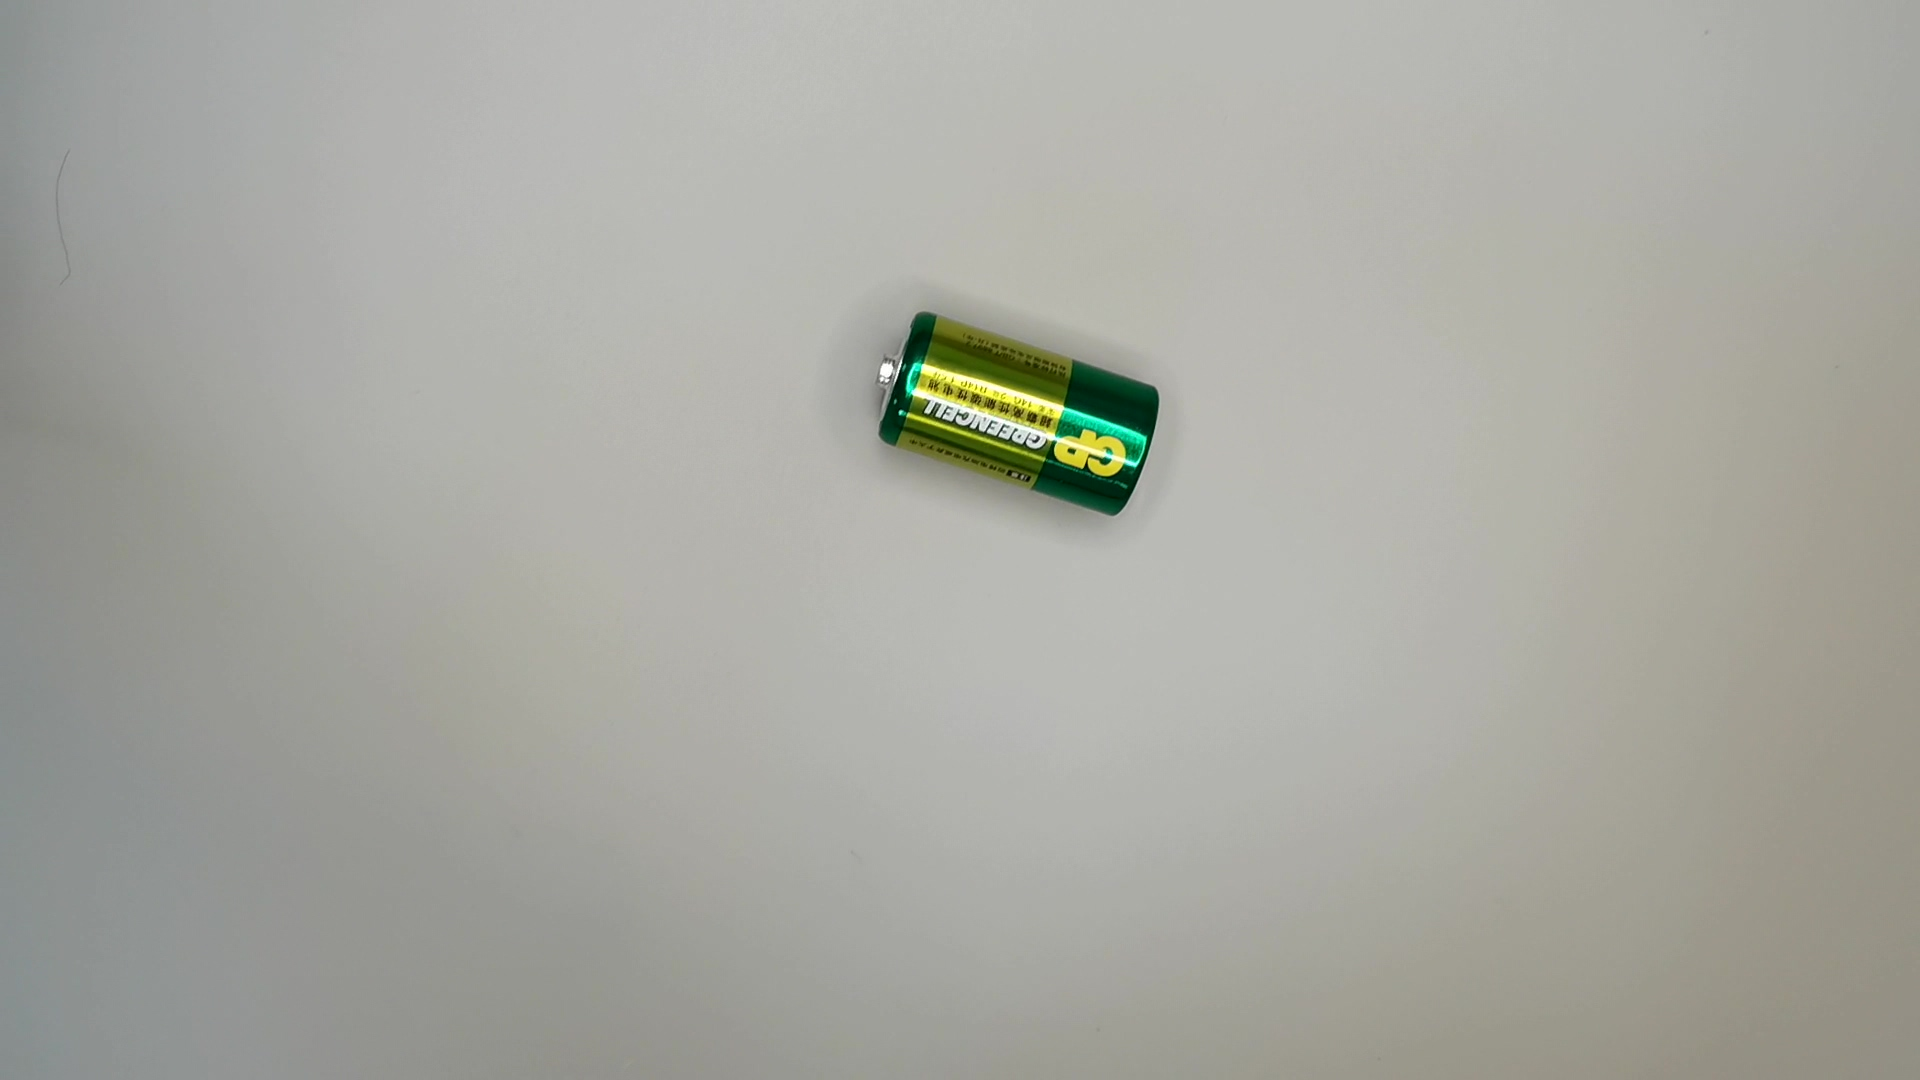battery: (869, 311, 1167, 517)
